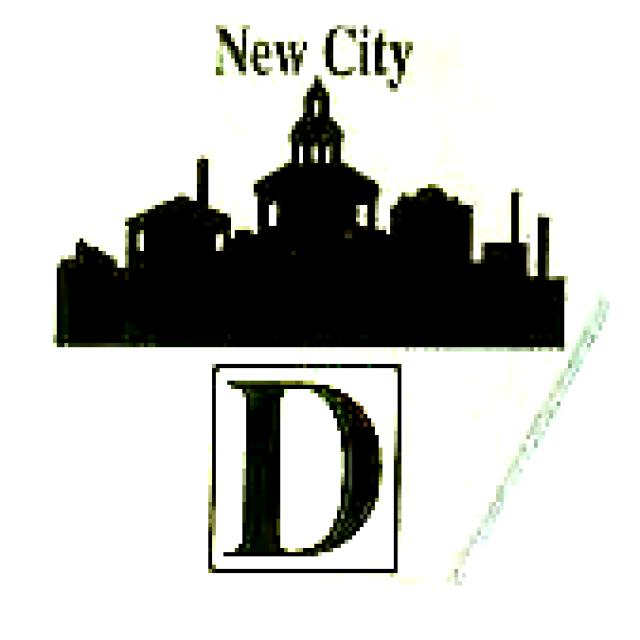19_0: (22, 14, 609, 590)
